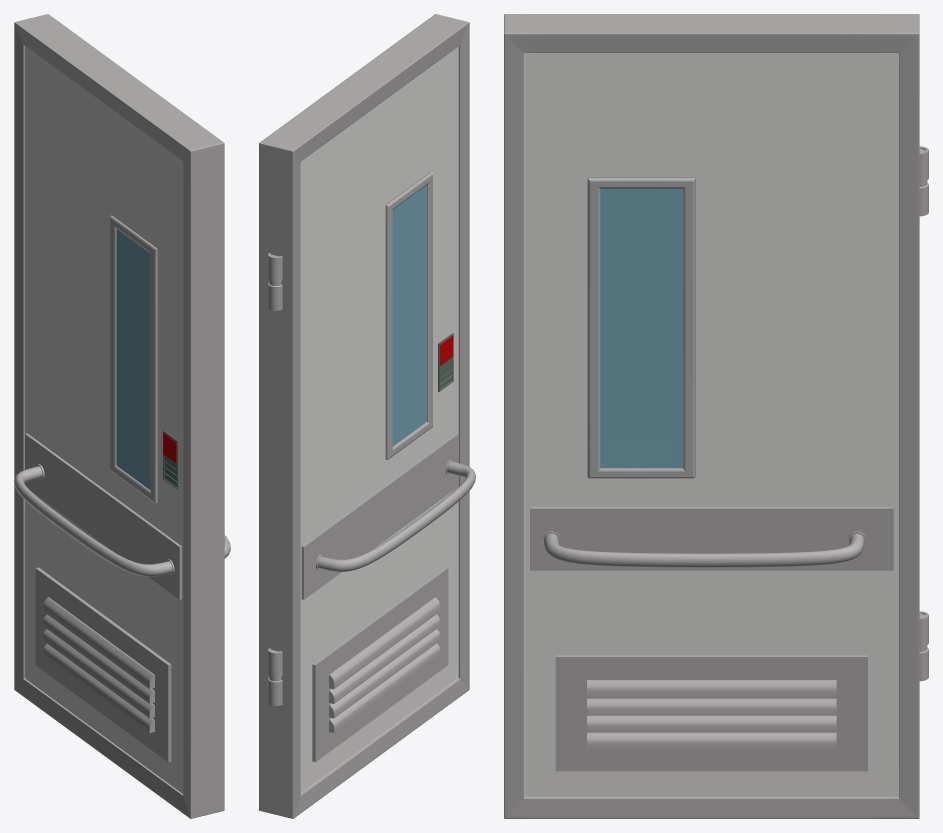
File: PuertaDetector_high.fbx
The picture shows the model from 3 angles, left to right: view 1: azimuth 30°, elevation 25°; view 2: azimuth 150°, elevation 25°; view 3: azimuth 270°, elevation 25°; orthographic projection. The views are drawn at different scales.
Visible parts, largest first — view 1: Puerta, Respiradero2, Soporte2, Apertura2, DetectorTarjetas; view 2: Puerta, Respiradero2, Soporte2, Apertura2, Herrajes, DetectorTarjetas; view 3: Puerta, Respiradero2, Soporte2, Apertura2, Herrajes.
Boxes of the visible parts, left/top/right/bottom form: Puerta: left=14, top=14, right=224, bottom=818; Respiradero2: left=35, top=567, right=171, bottom=762; Soporte2: left=25, top=433, right=181, bottom=599; Apertura2: left=14, top=464, right=230, bottom=576; DetectorTarjetas: left=163, top=430, right=178, bottom=489; Puerta: left=259, top=14, right=469, bottom=818; Respiradero2: left=312, top=567, right=448, bottom=762; Soporte2: left=301, top=433, right=458, bottom=599; Apertura2: left=316, top=459, right=475, bottom=571; Herrajes: left=268, top=253, right=282, bottom=705; DetectorTarjetas: left=438, top=333, right=453, bottom=391; Puerta: left=504, top=14, right=919, bottom=818; Respiradero2: left=555, top=655, right=867, bottom=771; Soporte2: left=530, top=507, right=893, bottom=570; Apertura2: left=541, top=531, right=866, bottom=567; Herrajes: left=919, top=146, right=928, bottom=681.
Size of the model in its own units: 1 by 5.57 by 2.73.
